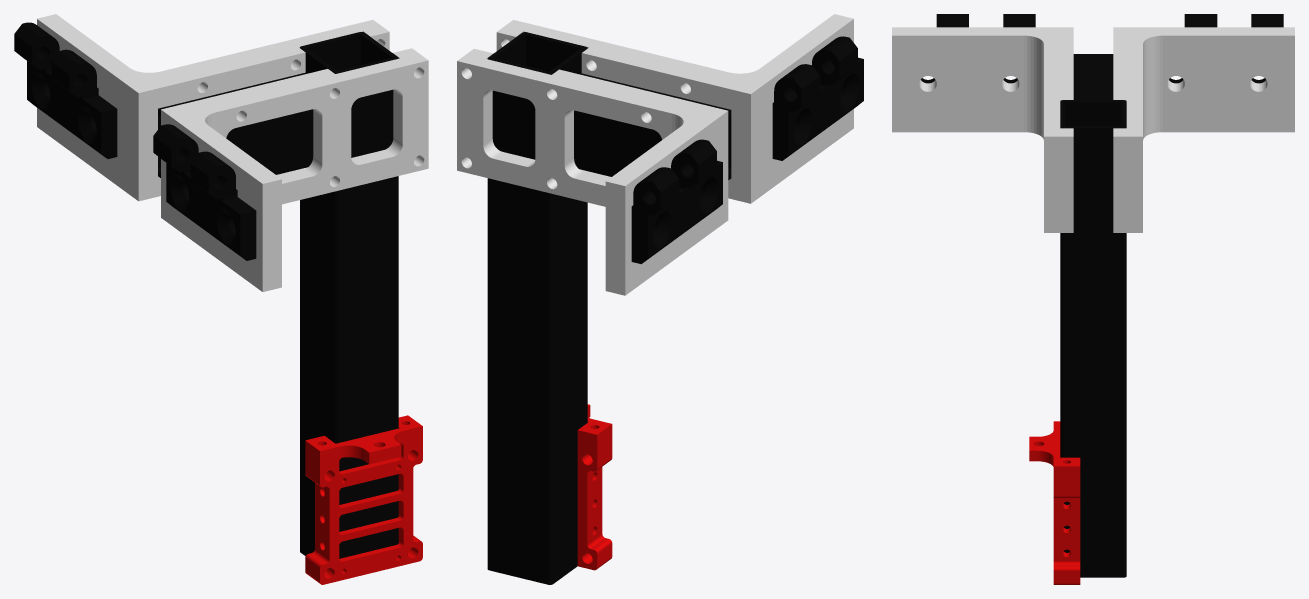
Rendered from passive_gripper_fixed_part_left.dae.
The picture shows the model from 3 angles, left to right: view 1: azimuth 30°, elevation 25°; view 2: azimuth 150°, elevation 25°; view 3: azimuth 270°, elevation 25°; orthographic projection. The views are drawn at different scales.
Parts seen in each view (by area): view 1: passive_gripper_fixed_part_left_black, passive_gripper_fixed_part_left_white, passive_gripper_fixed_part_left_red; view 2: passive_gripper_fixed_part_left_black, passive_gripper_fixed_part_left_white, passive_gripper_fixed_part_left_red; view 3: passive_gripper_fixed_part_left_white, passive_gripper_fixed_part_left_black, passive_gripper_fixed_part_left_red.
Boxes of the visible parts, x1,y1,x2,y2 form: passive_gripper_fixed_part_left_black: [14, 22, 398, 558]; passive_gripper_fixed_part_left_white: [37, 14, 428, 291]; passive_gripper_fixed_part_left_red: [305, 415, 422, 584]; passive_gripper_fixed_part_left_black: [487, 32, 863, 584]; passive_gripper_fixed_part_left_white: [457, 14, 853, 295]; passive_gripper_fixed_part_left_red: [577, 404, 612, 570]; passive_gripper_fixed_part_left_white: [892, 27, 1294, 232]; passive_gripper_fixed_part_left_black: [921, 14, 1283, 577]; passive_gripper_fixed_part_left_red: [1029, 421, 1080, 584].
Bounding box in the file's own units: 0.0872 × 0.1218 × 0.1514.
